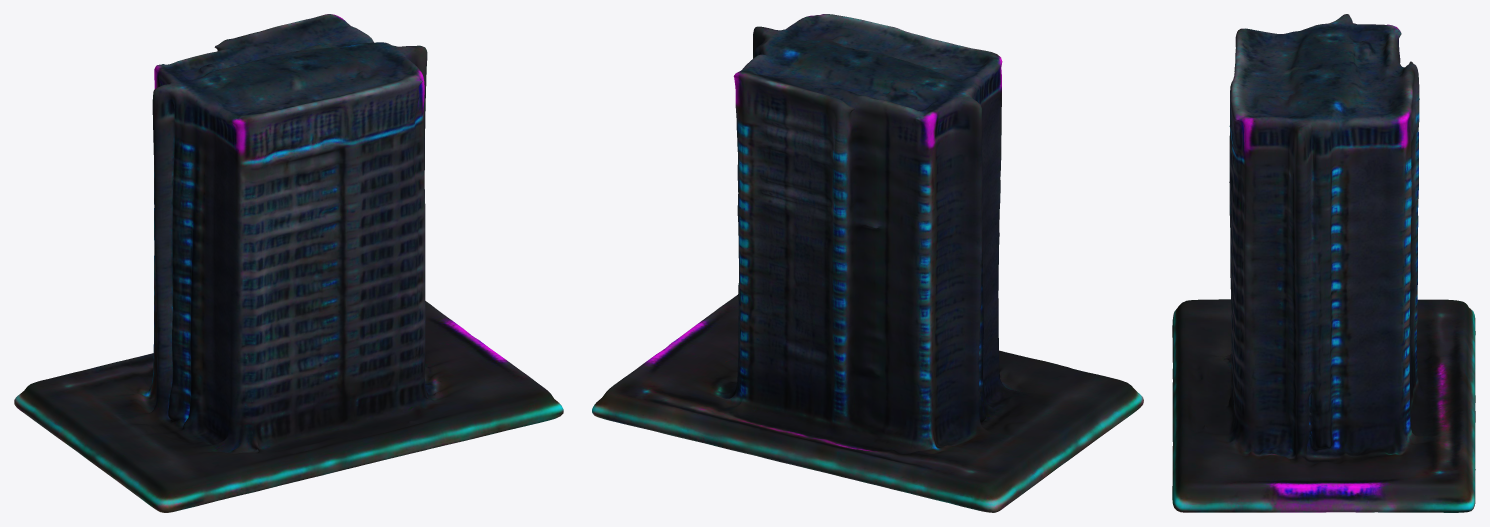
Rendered from 4bc7ba0ee34b_a_tall__minimalist_futuristic_sk.glb.
3 renders of one model, left to right at view 1: azimuth 30°, elevation 25°; view 2: azimuth 150°, elevation 25°; view 3: azimuth 270°, elevation 25°, orthographic.
Parts seen in each view (by area): view 1: geometry_0; view 2: geometry_0; view 3: geometry_0.
Boxes of the visible parts, left/top/right/bottom form: geometry_0: left=14, top=14, right=563, bottom=512; geometry_0: left=592, top=14, right=1143, bottom=512; geometry_0: left=1172, top=14, right=1475, bottom=512.
Bounding box in the file's own units: 0.4207 × 0.3437 × 0.2729.
Materials: 1 (1 with a texture image).
